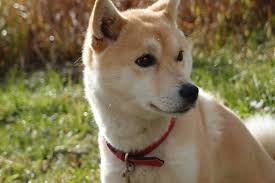dog: (77, 1, 274, 183)
